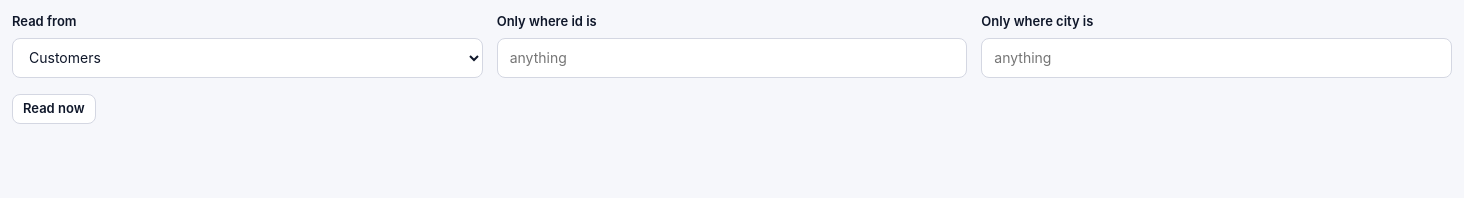
trying a connector › no rows, and a failure, are each said plainly
Step 1. Click the button "Read now" → (54, 108), box x1=12 y1=94 x2=96 y2=124
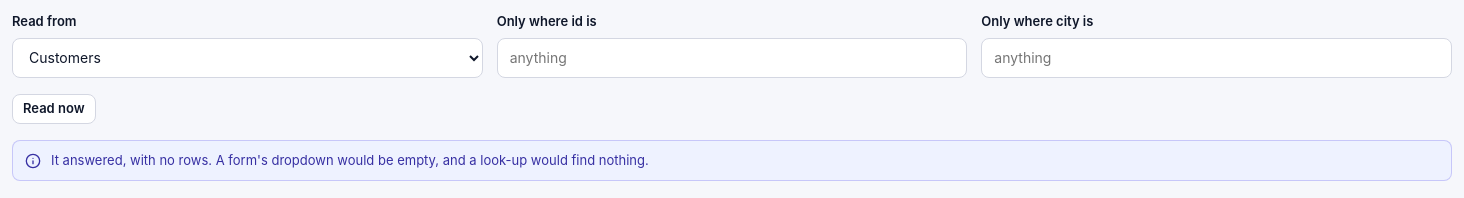
expect the text "It answered, with no rows" is shown: met, box x1=51 y1=152 x2=649 y2=168
Step 2. Click the button "Read now" → (54, 108), box x1=12 y1=94 x2=96 y2=124
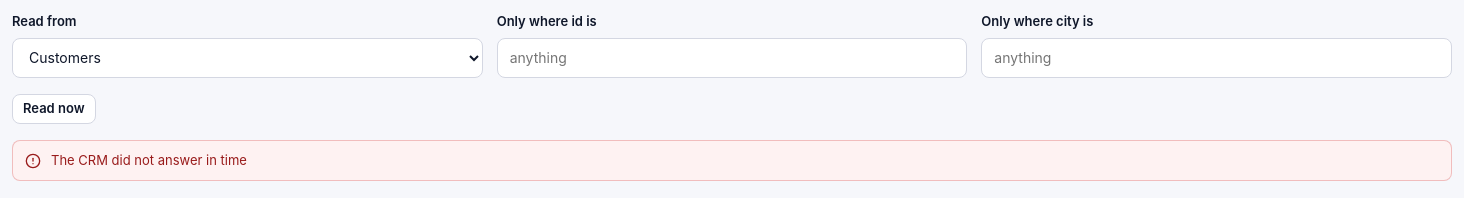
expect the text "The CRM did not answer in time" is shown: met, box x1=51 y1=150 x2=247 y2=170
